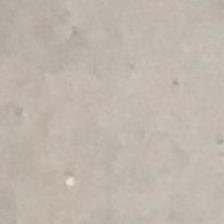Non_Crack: (12, 13, 209, 224)
